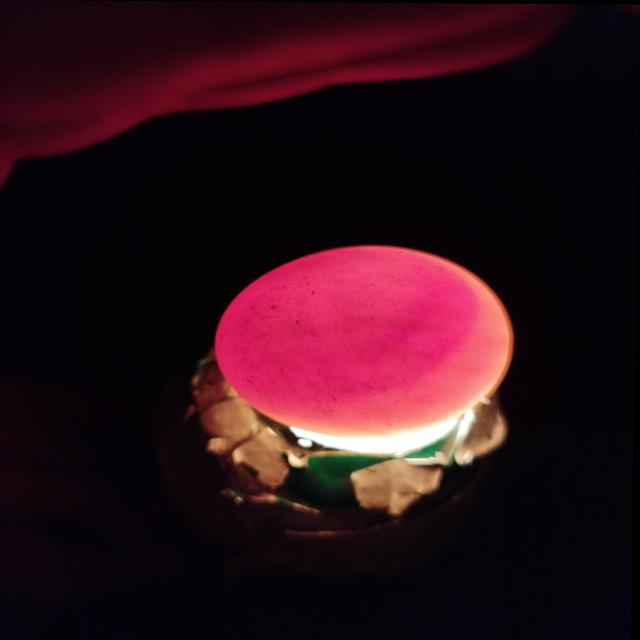Gema Quebrada: (217, 247, 480, 410)
